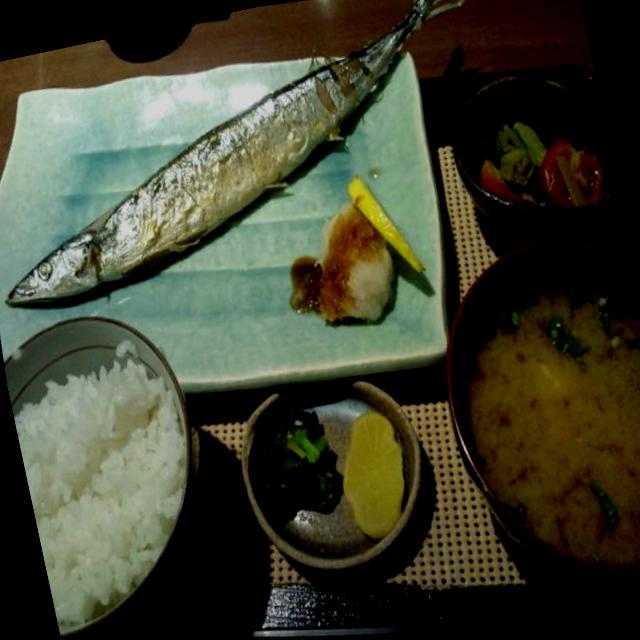Rice: (4, 341, 226, 640)
